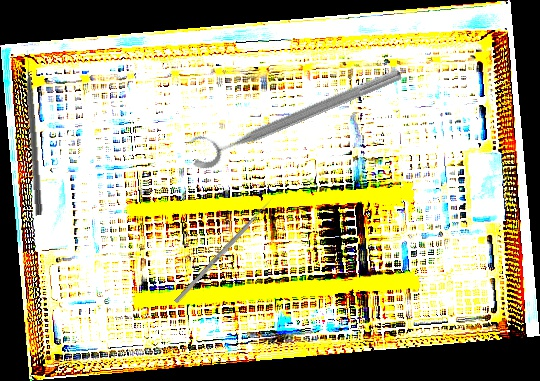Fixation Ring: (182, 51, 406, 174)
Pusher: (174, 195, 276, 304), (23, 49, 45, 216)
